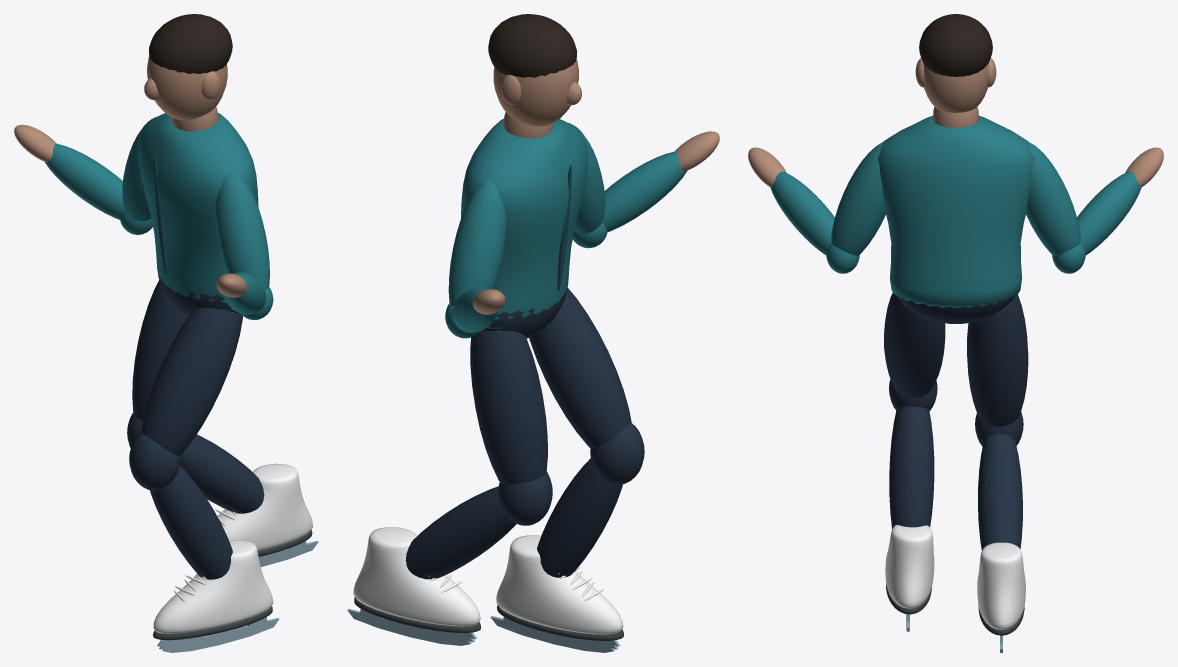
3 renders of one model, left to right at view 1: azimuth 30°, elevation 25°; view 2: azimuth 150°, elevation 25°; view 3: azimuth 270°, elevation 25°, orthographic. The views are drawn at different scales.
Parts seen in each view (by area): view 1: Jacket, Left thigh, Left skate · website boot v64, Left shin, Right skate · website boot v64, Left upper sleeve, Hair, Right shin, Right thigh, Right forearm, Head, Left knee (+12 smaller); view 2: Jacket, Right thigh, Left thigh, Right skate · website boot v64, Left skate · website boot v64, Right shin, Left shin, Right upper sleeve, Hair, Left forearm, Head, Left knee (+12 smaller); view 3: Jacket, Right thigh, Left shin, Left thigh, Right shin, Hair, Left upper sleeve, Right upper sleeve, Right skate · website boot v64, Left skate · website boot v64, Left forearm, Right forearm (+9 smaller).
Part boxes in pixels (x1,y1,x2,y2): Jacket: (138,113,258,310); Left thigh: (141,308,242,455); Left skate · website boot v64: (153,540,273,633); Left shin: (150,465,232,579); Right skate · website boot v64: (218,463,312,551); Left upper sleeve: (215,171,269,289); Hair: (149,14,232,73); Right shin: (180,434,264,513); Right thigh: (132,280,188,420); Right forearm: (45,143,124,219); Head: (147,56,227,120); Left knee: (129,432,180,490); Jacket: (461,118,588,329); Right thigh: (470,330,547,484); Left thigh: (529,288,631,448); Right skate · website boot v64: (353,527,480,626); Left skate · website boot v64: (496,535,623,634); Right shin: (405,486,516,579); Left shin: (537,458,622,577); Right upper sleeve: (448,181,506,306); Hair: (488,14,576,77); Left forearm: (602,151,687,232); Head: (493,59,578,126); Left knee: (590,423,644,484); Jacket: (878,115,1033,307); Right thigh: (967,294,1028,426); Left shin: (889,406,934,529); Left thigh: (884,292,945,398); Right shin: (978,434,1022,550); Hair: (919,14,992,76); Left upper sleeve: (831,142,885,255); Right upper sleeve: (1026,142,1080,255); Right skate · website boot v64: (977,542,1025,629); Left skate · website boot v64: (885,524,934,608); Left forearm: (770,171,834,255); Right forearm: (1077,171,1141,255).
Size of what is drawn, in the model's own units: 0.5968 by 1.5 by 0.9576.
